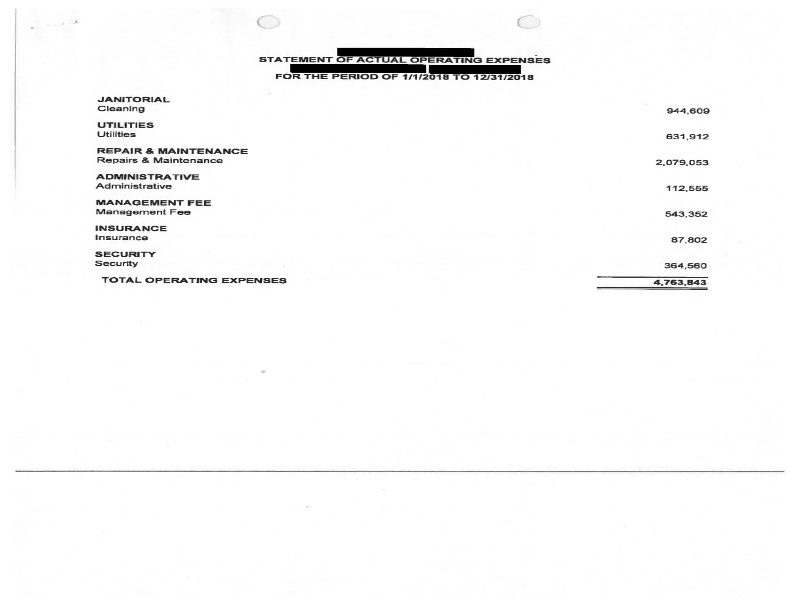table: (95, 88, 714, 297)
